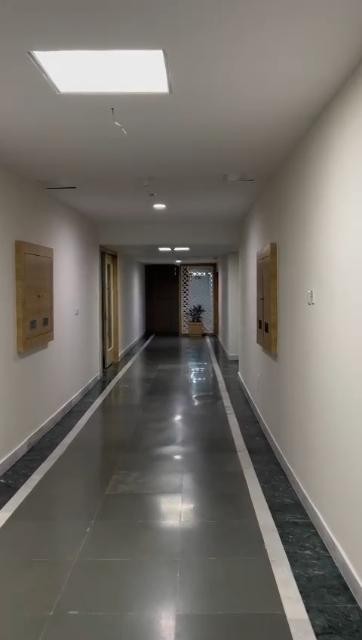door: (100, 248, 120, 362)
floor: (0, 329, 361, 640)
object: (186, 304, 205, 336)
wall: (237, 57, 362, 587), (0, 155, 99, 458), (15, 236, 65, 365), (122, 259, 146, 339), (220, 256, 240, 348)
